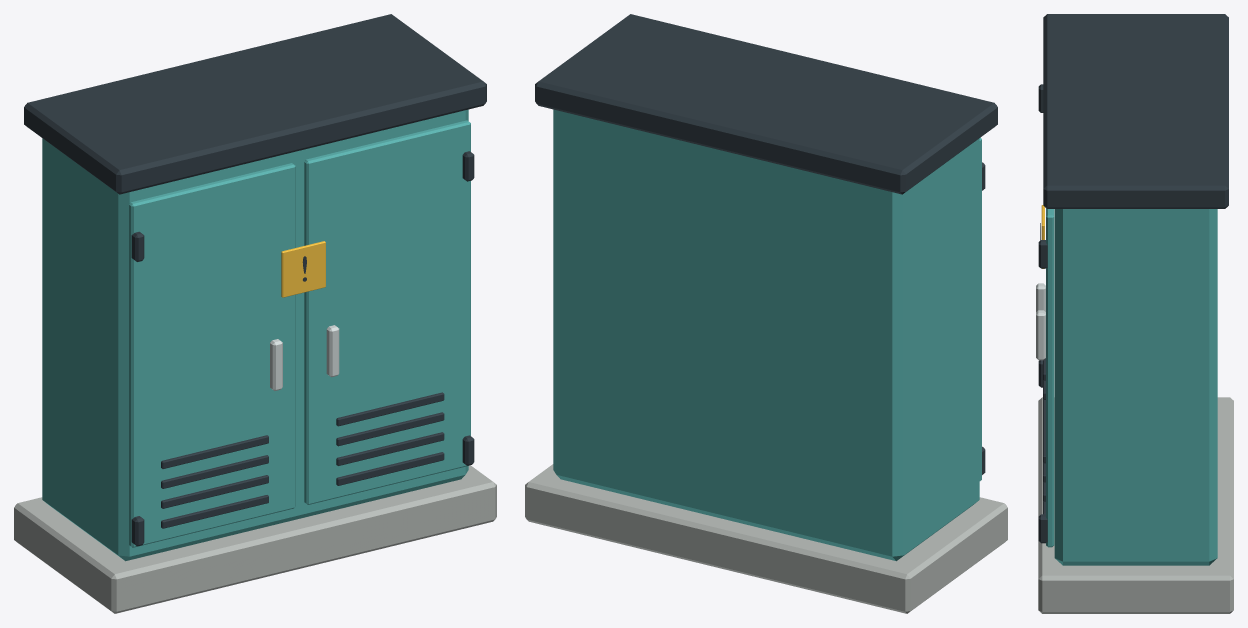
Rendered from Utility_Box_Large.glb.
3 renders of one model, left to right at view 1: azimuth 30°, elevation 25°; view 2: azimuth 150°, elevation 25°; view 3: azimuth 270°, elevation 25°, orthographic. The views are drawn at different scales.
Parts seen in each view (by area): view 1: Utility_Box_Large; view 2: Utility_Box_Large; view 3: Utility_Box_Large.
Boxes of the visible parts, <box> form: Utility_Box_Large: <box>14,14,496,613</box>; Utility_Box_Large: <box>525,14,1007,613</box>; Utility_Box_Large: <box>1036,14,1233,613</box>.
Size of the model in its own units: 1.32 by 1.44 by 0.607.
